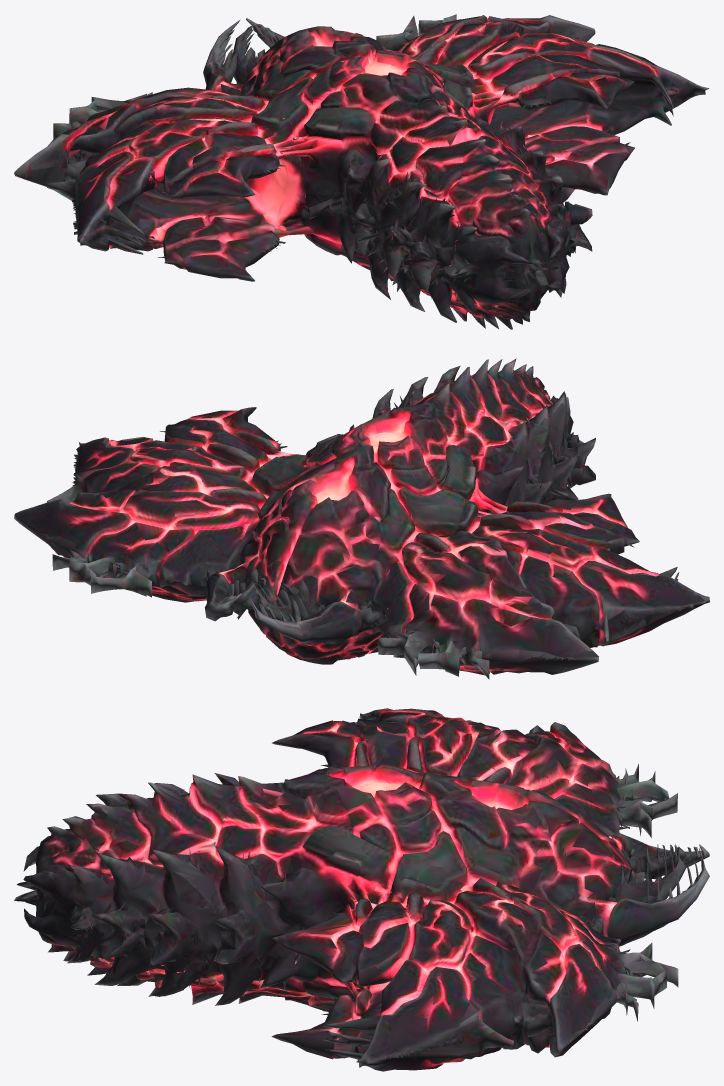
File: vexor-cola-30k.glb
The picture shows the model from 3 angles, top to bottom: view 1: azimuth 30°, elevation 25°; view 2: azimuth 150°, elevation 25°; view 3: azimuth 270°, elevation 25°; orthographic projection. The views are drawn at different scales.
Visible parts, largest first — view 1: vexor_ala_izq, vexor_cuerpo, vexor_ala_der, vexor_cola_2, vexor_cola_1, vexor_cola_3; view 2: vexor_cuerpo, vexor_ala_izq, vexor_ala_der, vexor_cola_1, vexor_cola_2; view 3: vexor_cuerpo, vexor_ala_der, vexor_ala_izq, vexor_cola_2, vexor_cola_1, vexor_cola_3.
Part boxes in pixels (bbox=[...]): vexor_ala_izq: bbox=[14, 87, 310, 281]; vexor_cuerpo: bbox=[199, 18, 524, 284]; vexor_ala_der: bbox=[376, 14, 709, 195]; vexor_cola_2: bbox=[391, 139, 592, 329]; vexor_cola_1: bbox=[355, 105, 564, 321]; vexor_cola_3: bbox=[444, 179, 588, 324]; vexor_cuerpo: bbox=[179, 385, 541, 664]; vexor_ala_izq: bbox=[370, 493, 709, 679]; vexor_ala_der: bbox=[14, 407, 290, 602]; vexor_cola_1: bbox=[379, 367, 578, 549]; vexor_cola_2: bbox=[434, 358, 595, 526]; vexor_cuerpo: bbox=[214, 764, 709, 1012]; vexor_ala_der: bbox=[271, 876, 678, 1071]; vexor_ala_izq: bbox=[272, 708, 677, 892]; vexor_cola_2: bbox=[63, 782, 191, 996]; vexor_cola_1: bbox=[147, 773, 261, 1005]; vexor_cola_3: bbox=[14, 806, 112, 963].
Size of the model in its own units: 1.91 by 0.5921 by 1.61.
1 material, 1 textured.
